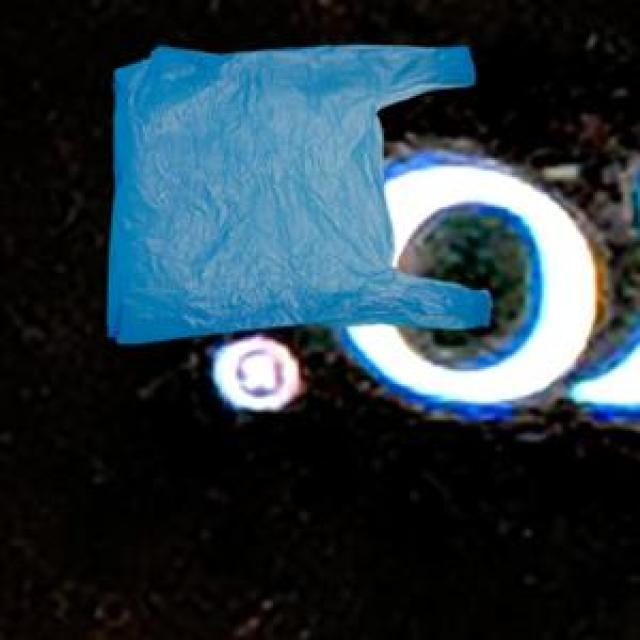Plastic_Bag: (104, 42, 488, 340)
